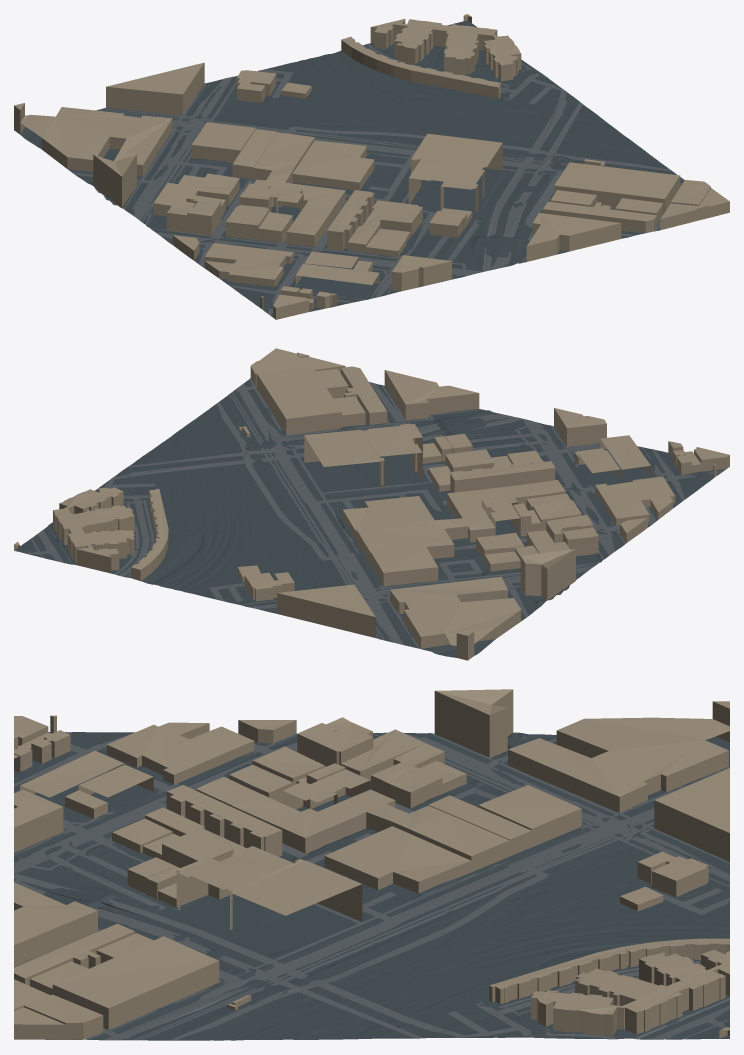
The model's file is epsg26910-1439-10887.lod0.glb.
The picture shows the model from 3 angles, top to bottom: view 1: azimuth 30°, elevation 25°; view 2: azimuth 150°, elevation 25°; view 3: azimuth 270°, elevation 25°; orthographic projection. The views are drawn at different scales.
Visible parts, largest first — view 1: epsg26910-1439-10887-lod0; view 2: epsg26910-1439-10887-lod0; view 3: epsg26910-1439-10887-lod0.
Boxes of the visible parts, x1,y1,x2,y2 form: epsg26910-1439-10887-lod0: (14, 14, 729, 319); epsg26910-1439-10887-lod0: (14, 348, 729, 660); epsg26910-1439-10887-lod0: (14, 689, 729, 1040).
Size of the model in its own units: 384 by 29.47 by 384.
